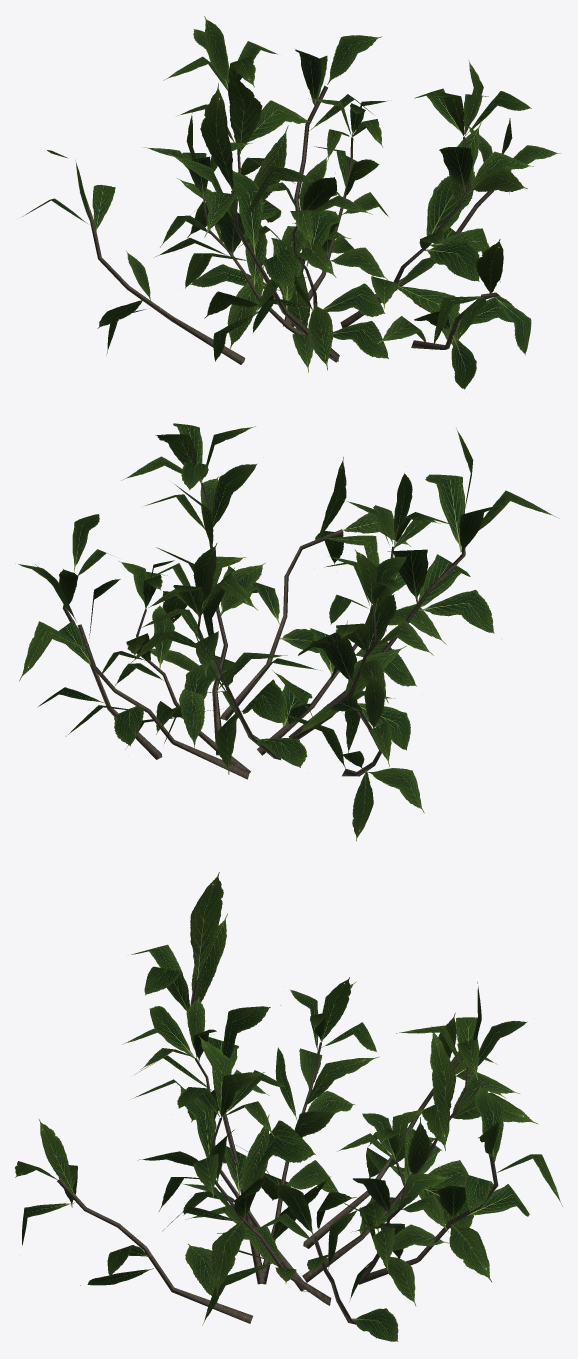
The model's file is arden_forest_hydrangea_03.fbx.
3 renders of one model, top to bottom at view 1: azimuth 30°, elevation 25°; view 2: azimuth 150°, elevation 25°; view 3: azimuth 270°, elevation 25°, orthographic. The views are drawn at different scales.
Visible parts, largest first — view 1: arden_forest_hydrangea_03; view 2: arden_forest_hydrangea_03; view 3: arden_forest_hydrangea_03.
Part boxes in pixels (x1=…): arden_forest_hydrangea_03: x1=22, y1=16, x2=561, y2=389; arden_forest_hydrangea_03: x1=15, y1=423, x2=559, y2=841; arden_forest_hydrangea_03: x1=15, y1=872, x2=562, y2=1341.
Bounding box in the file's own units: 1.57 × 1.56 × 1.08.
